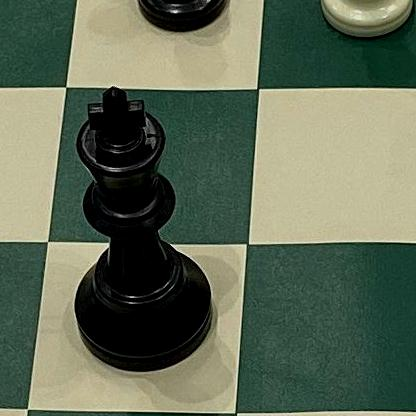black-king: (54, 80, 225, 388)
black-pawn: (133, 0, 234, 48)
white-pawn: (313, 0, 416, 45)
